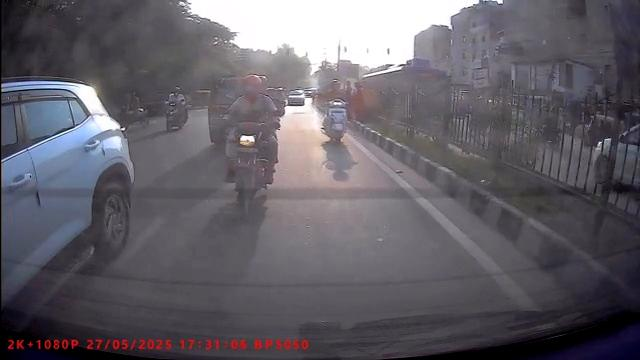motorcycle_with_helmet: (221, 73, 282, 218), (162, 87, 190, 132)
